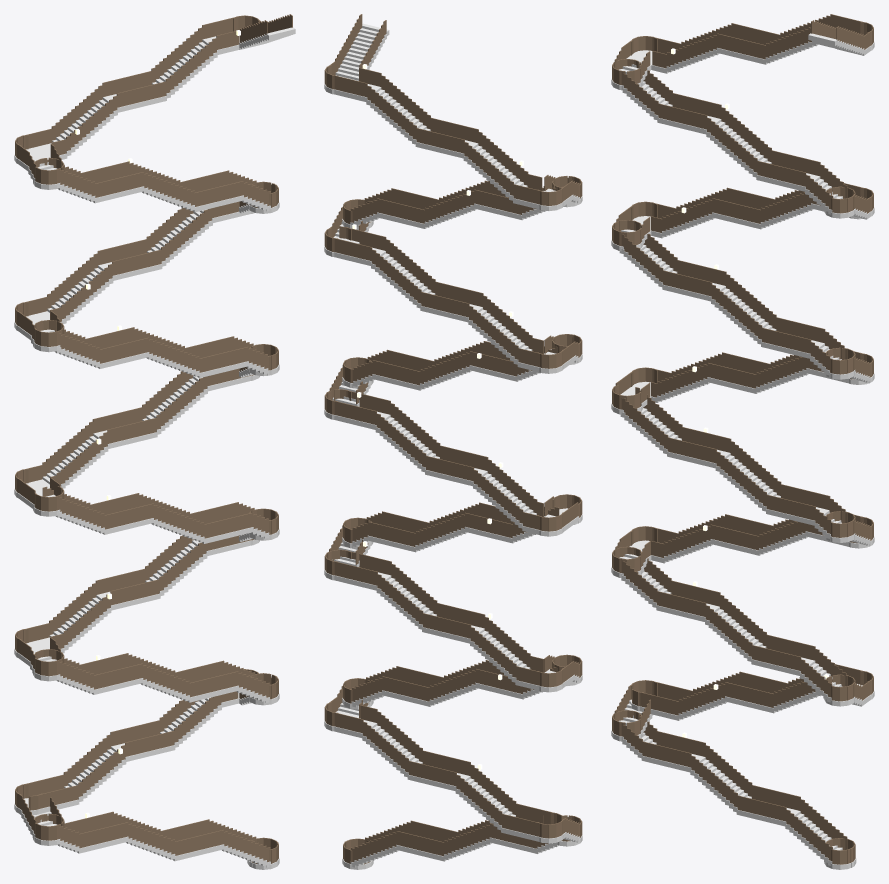
3 renders of one model, left to right at view 1: azimuth 30°, elevation 25°; view 2: azimuth 150°, elevation 25°; view 3: azimuth 330°, elevation 25°, orthographic. The views are drawn at different scales.
Parts seen in each view (by area): view 1: c_cliff_stair_4_rail_rail, c_cliff_stair_4_stair_wood; view 2: c_cliff_stair_4_rail_rail, c_cliff_stair_4_stair_wood; view 3: c_cliff_stair_4_rail_rail, c_cliff_stair_4_stair_wood.
Boxes of the visible parts, left/top/right/bottom form: c_cliff_stair_4_rail_rail: left=15, top=14, right=292, bottom=863; c_cliff_stair_4_stair_wood: left=14, top=27, right=295, bottom=869; c_cliff_stair_4_rail_rail: left=324, top=14, right=582, bottom=864; c_cliff_stair_4_stair_wood: left=324, top=23, right=582, bottom=869; c_cliff_stair_4_rail_rail: left=612, top=14, right=873, bottom=864; c_cliff_stair_4_stair_wood: left=611, top=33, right=874, bottom=869.
Bounding box in the file's own units: 18.08 × 61.01 × 5.86.
